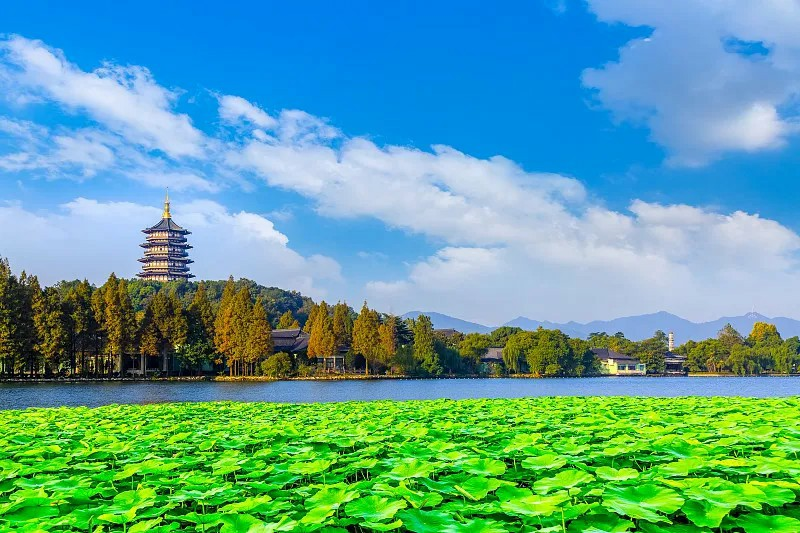Leifeng: (134, 185, 195, 283)
